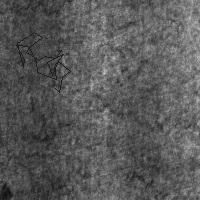crazing: (9, 89, 149, 157), (16, 32, 70, 92)
